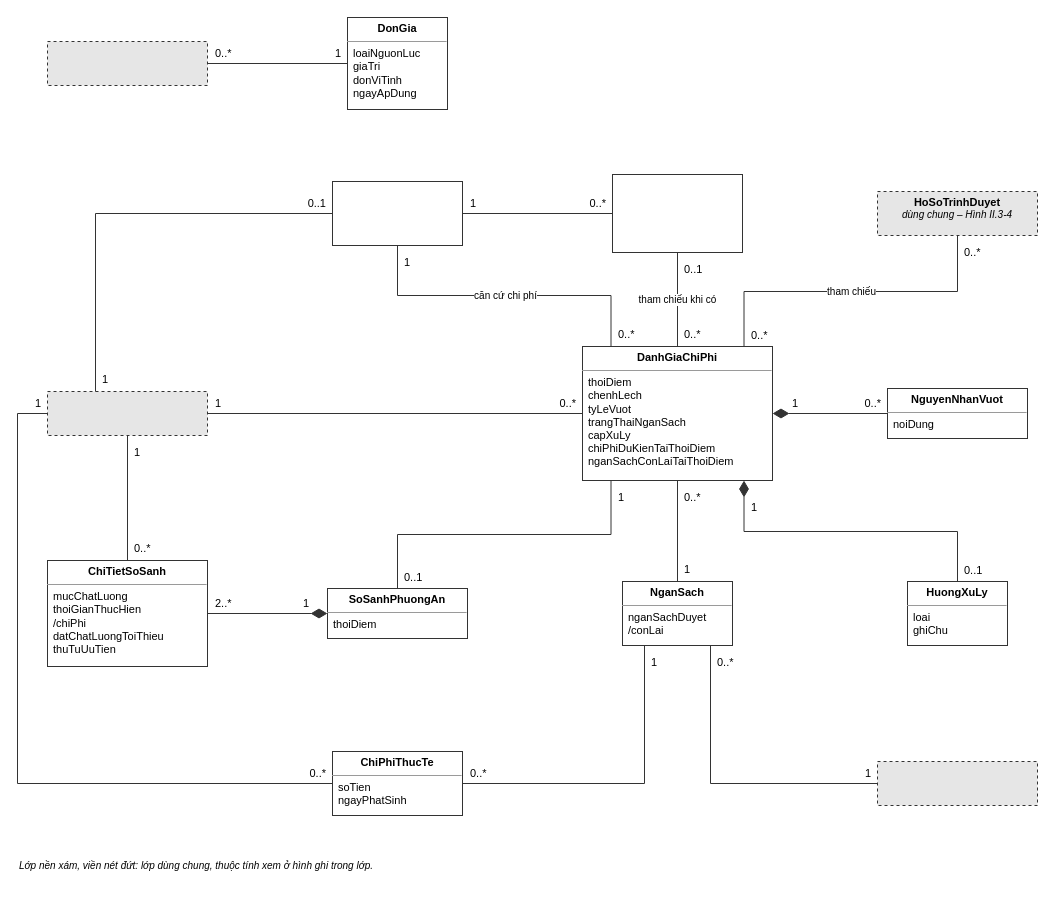
Image size: 1055x901. Some labels were removed from this diagram. The shapes that lost their labels are listed below. From the top down, each one's box as (x1, y1, x2, y2) in pixels, then its label:
(46, 40, 208, 86): ChiTietBoTri dùng chung – Hình II.3-4
(332, 180, 462, 246): DuToanChiPhi ngayLap /tongChiPhi
(612, 174, 742, 252): DuBaoChiPhi ngayCapNhat lyDoCapNhat /tongChiPhiDuBao
(46, 390, 208, 436): PhuongAnBoTri dùng chung – Hình II.3-4
(876, 760, 1038, 806): DuAn dùng chung – Hình II.3-2
